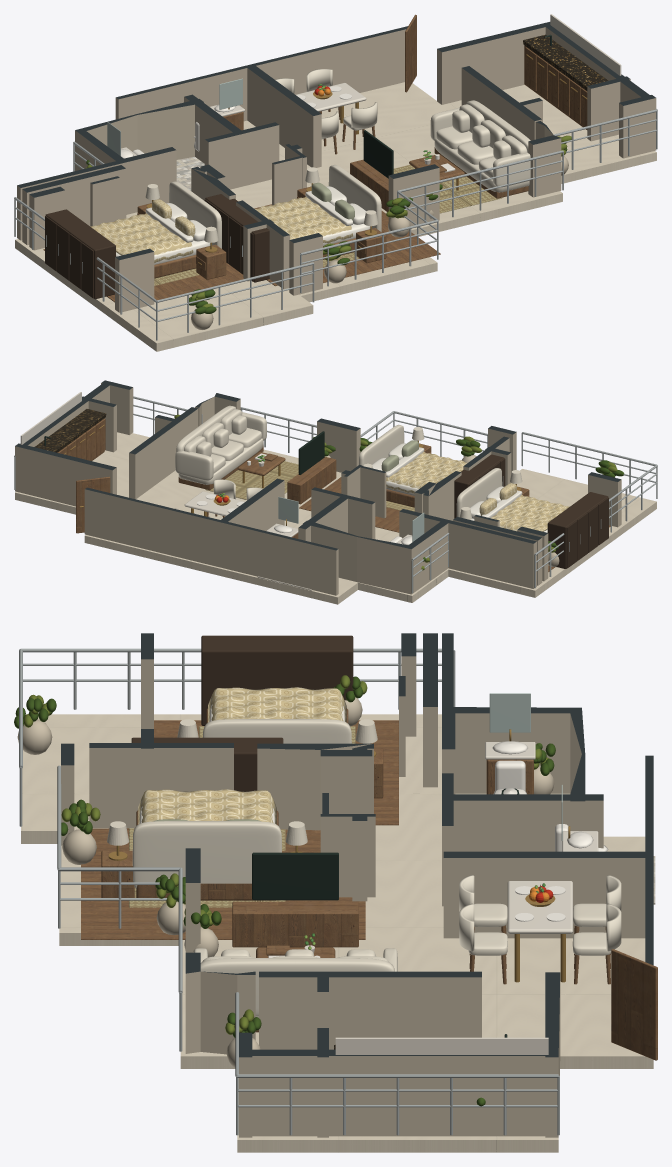
The picture shows the model from 3 angles, top to bottom: view 1: azimuth 30°, elevation 25°; view 2: azimuth 150°, elevation 25°; view 3: azimuth 270°, elevation 25°; orthographic projection. The views are drawn at different scales.
Parts seen in each view (by area): view 1: Source-traced internal and perimeter walls • Wall, Continuous apartment foundation, Soft jacquard duvet with folds, Soft jacquard duvet with folds.001, Fitted dark wardrobe, Full bedroom wood flooring.001, Deep green kitchen stone, Fitted dark wardrobe.001, Padded headboard.001, Padded headboard, Living patterned carpet, Full bedroom wood flooring (+24 smaller); view 2: Source-traced internal and perimeter walls • Wall, Continuous apartment foundation, Soft jacquard duvet with folds.001, Soft jacquard duvet with folds, Fitted dark wardrobe, Walnut media console, Living patterned carpet, Deep green kitchen stone, Padded headboard, Rounded armrest.001, Padded headboard.001, Oak entrance door (+19 smaller); view 3: Source-traced internal and perimeter walls • Wall, Continuous apartment foundation, Fitted dark wardrobe, Padded headboard.001, Walnut media console, Full bedroom wood flooring.001, Oak entrance door, Television, Soft jacquard duvet with folds, Soft jacquard duvet with folds.001, Backsplash, Padded headboard (+19 smaller).
Part boxes in pixels (x1,y1,x2,y2): Source-traced internal and perimeter walls • Wall: (17, 22, 656, 312); Continuous apartment foundation: (15, 82, 656, 351); Soft jacquard duvet with folds: (90, 213, 193, 262); Soft jacquard duvet with folds.001: (255, 196, 352, 243); Fitted dark wardrobe: (45, 209, 115, 299); Full bedroom wood flooring.001: (254, 204, 440, 282); Deep green kitchen stone: (523, 34, 608, 88); Fitted dark wardrobe.001: (205, 194, 269, 282); Padded headboard.001: (328, 165, 381, 231); Padded headboard: (169, 181, 221, 248); Living patterned carpet: (393, 165, 501, 213); Full bedroom wood flooring: (43, 249, 243, 301); Source-traced internal and perimeter walls • Wall: (15, 380, 621, 595); Continuous apartment foundation: (15, 432, 656, 604); Soft jacquard duvet with folds.001: (386, 452, 467, 493); Soft jacquard duvet with folds: (491, 495, 569, 531); Fitted dark wardrobe: (547, 492, 608, 568); Walnut media console: (287, 456, 336, 504); Living patterned carpet: (205, 461, 298, 499); Deep green kitchen stone: (34, 409, 106, 452); Padded headboard: (456, 468, 502, 517); Rounded armrest.001: (175, 450, 213, 480); Padded headboard.001: (359, 424, 404, 465); Oak entrance door: (76, 476, 110, 533); Source-traced internal and perimeter walls • Wall: (61, 633, 653, 1137); Continuous apartment foundation: (21, 714, 653, 1152); Fitted dark wardrobe: (201, 635, 353, 725); Padded headboard.001: (132, 821, 281, 888); Walnut media console: (232, 901, 358, 947); Full bedroom wood flooring.001: (81, 828, 365, 939); Oak entrance door: (611, 949, 657, 1060); Television: (252, 852, 338, 900); Soft jacquard duvet with folds: (208, 687, 346, 722); Soft jacquard duvet with folds.001: (138, 789, 276, 824); Backsplash: (335, 1037, 548, 1054); Padded headboard: (203, 719, 351, 743).
Bounding box in the file's own units: 12.88 × 1.7 × 8.14.
26 materials, 6 textured.
